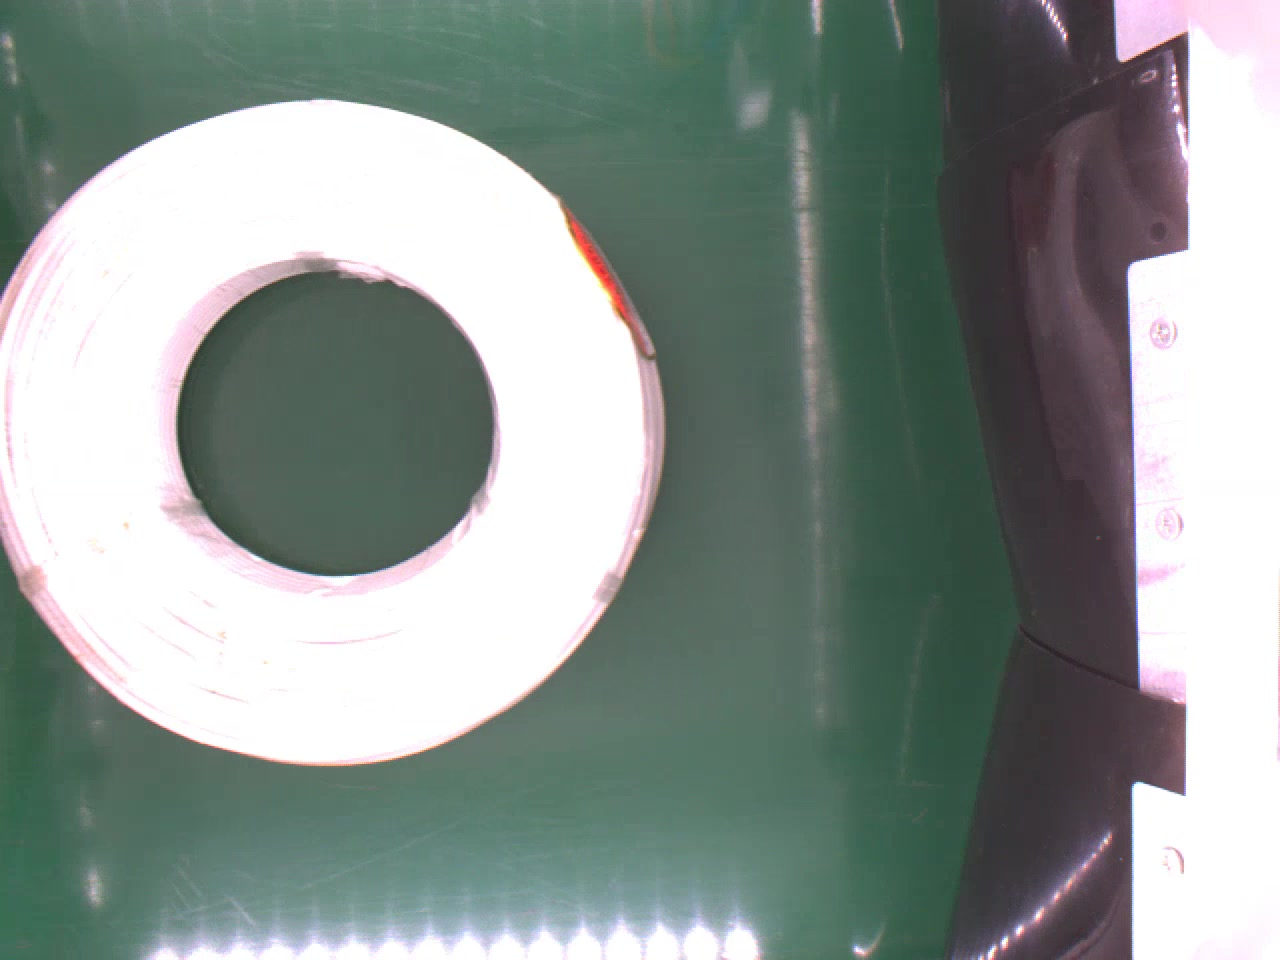white: (0, 93, 672, 771)
